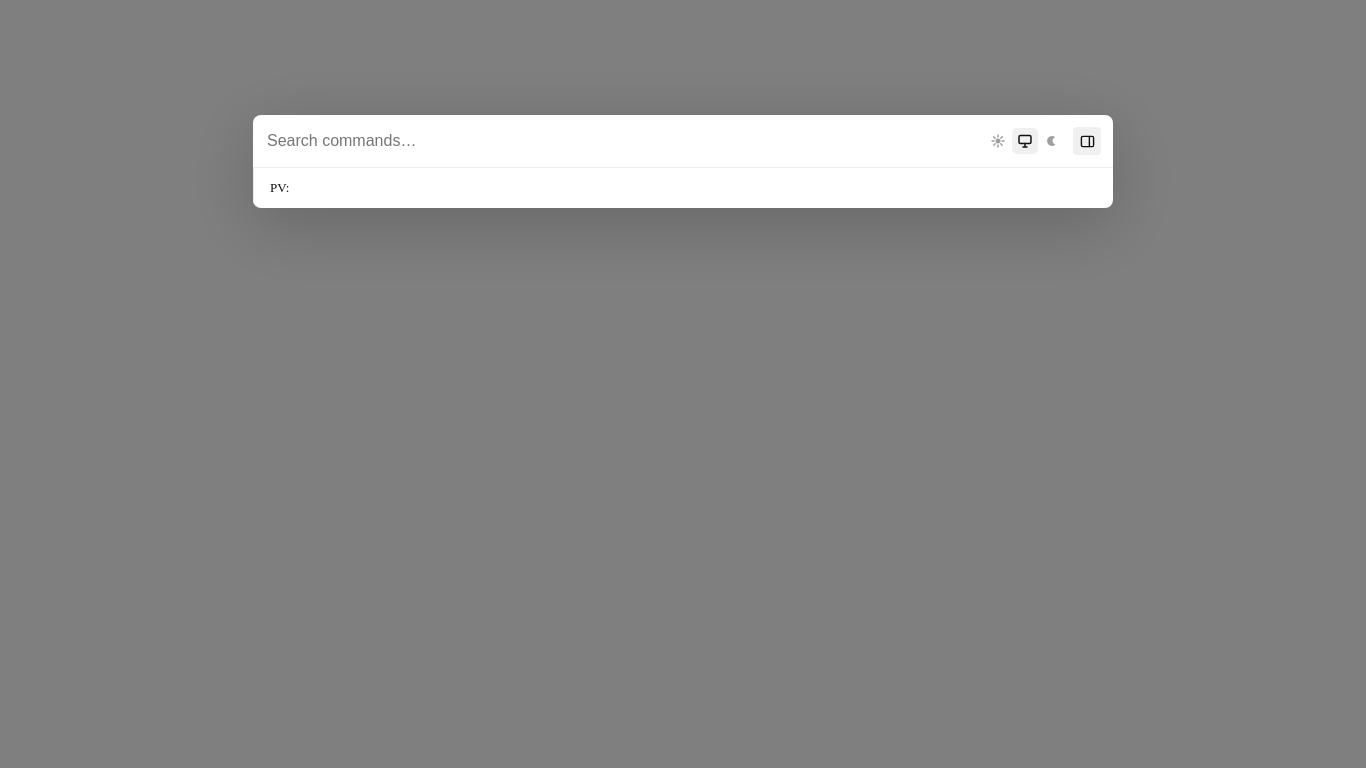
Test case: CommandPalette › renders a preview pane for the active command
The image size is (1366, 768).
Type "alpha" into the dropdown with placeholder "Search commands…" at (621, 141), box [265,131,977,151]
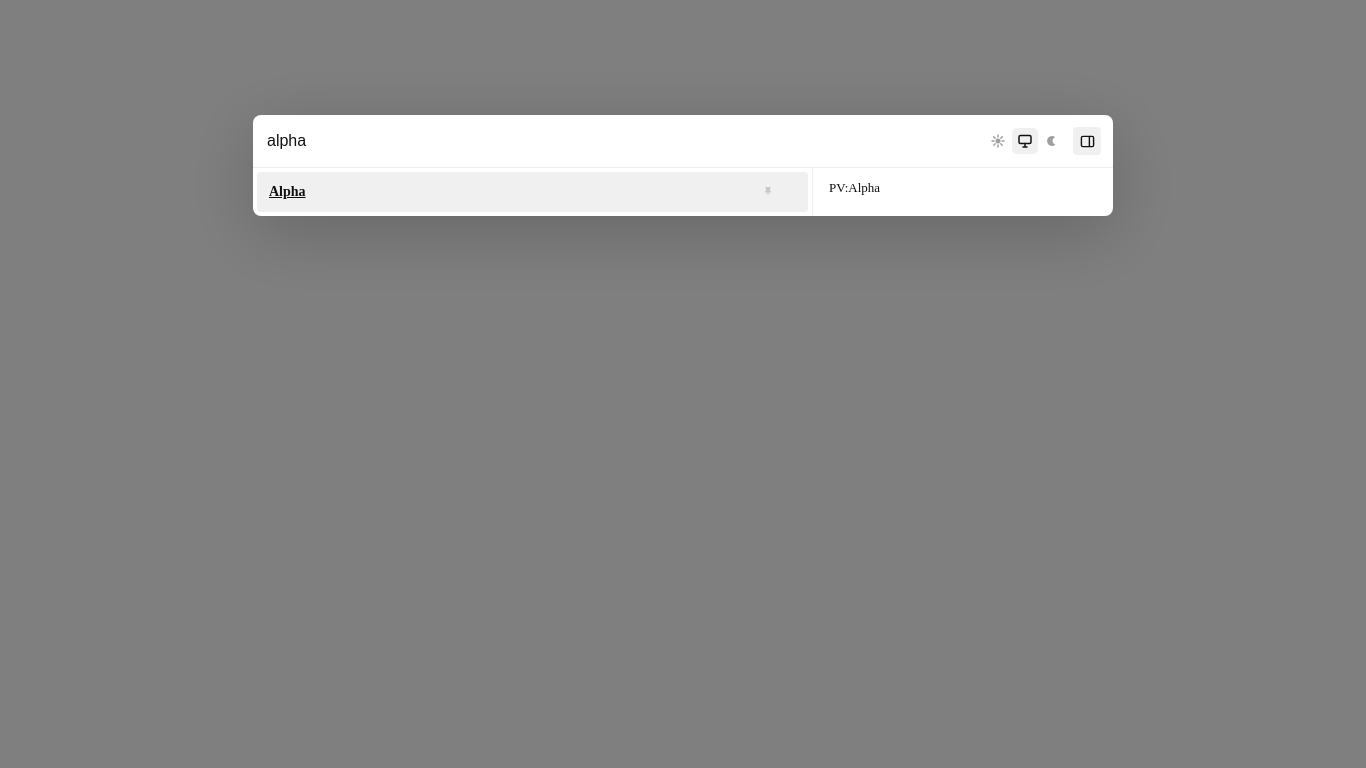
Expected: the element showing "PV:Alpha" is shown, [812,168,1113,216]
Now the text "PV:Alpha" is shown, box [829,180,880,195]
